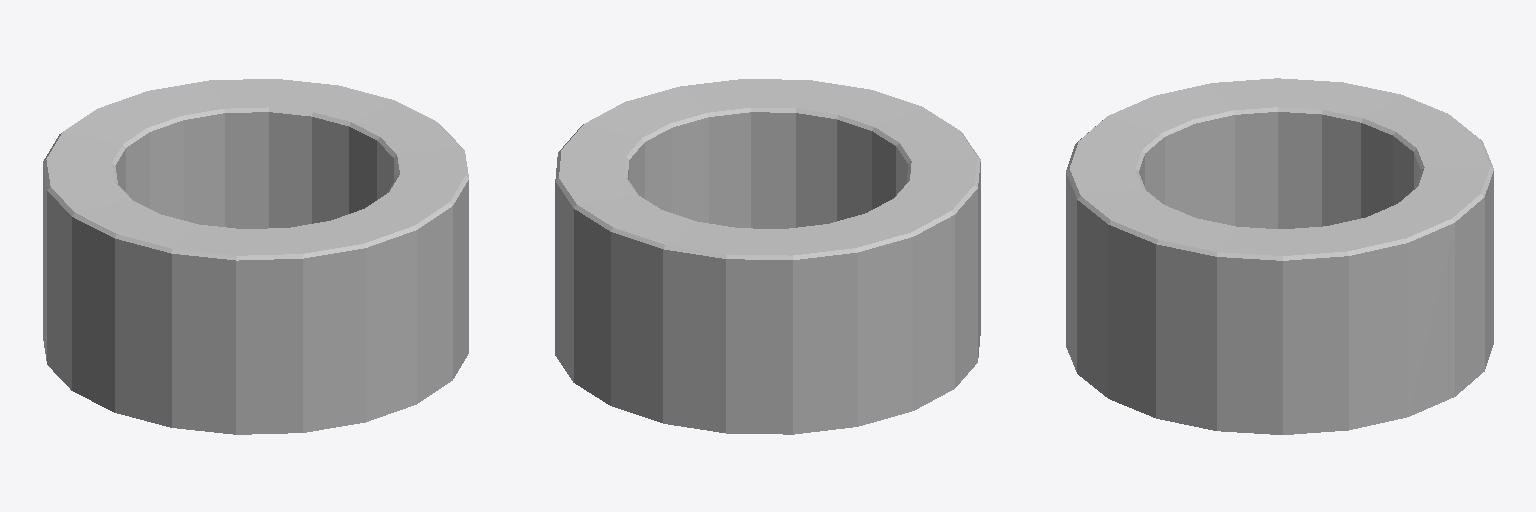
The model's file is CISTERNA.obj.
3 renders of one model, left to right at view 1: azimuth 30°, elevation 25°; view 2: azimuth 150°, elevation 25°; view 3: azimuth 270°, elevation 25°, orthographic.
Parts seen in each view (by area): view 1: CISTERNA_MESH; view 2: CISTERNA_MESH; view 3: CISTERNA_MESH.
Part boxes in pixels (left/top/right/bottom): CISTERNA_MESH: left=43, top=79, right=468, bottom=434; CISTERNA_MESH: left=555, top=79, right=980, bottom=434; CISTERNA_MESH: left=1066, top=78, right=1493, bottom=434.
Size of the model in its own units: 2.48 by 1.13 by 2.48.